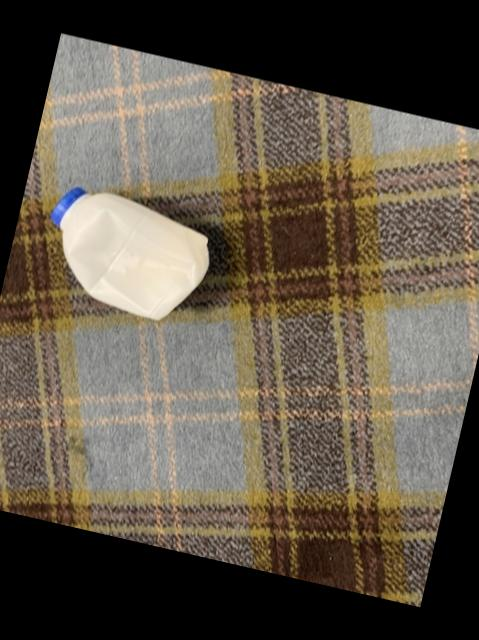plastic: (51, 188, 208, 321)
